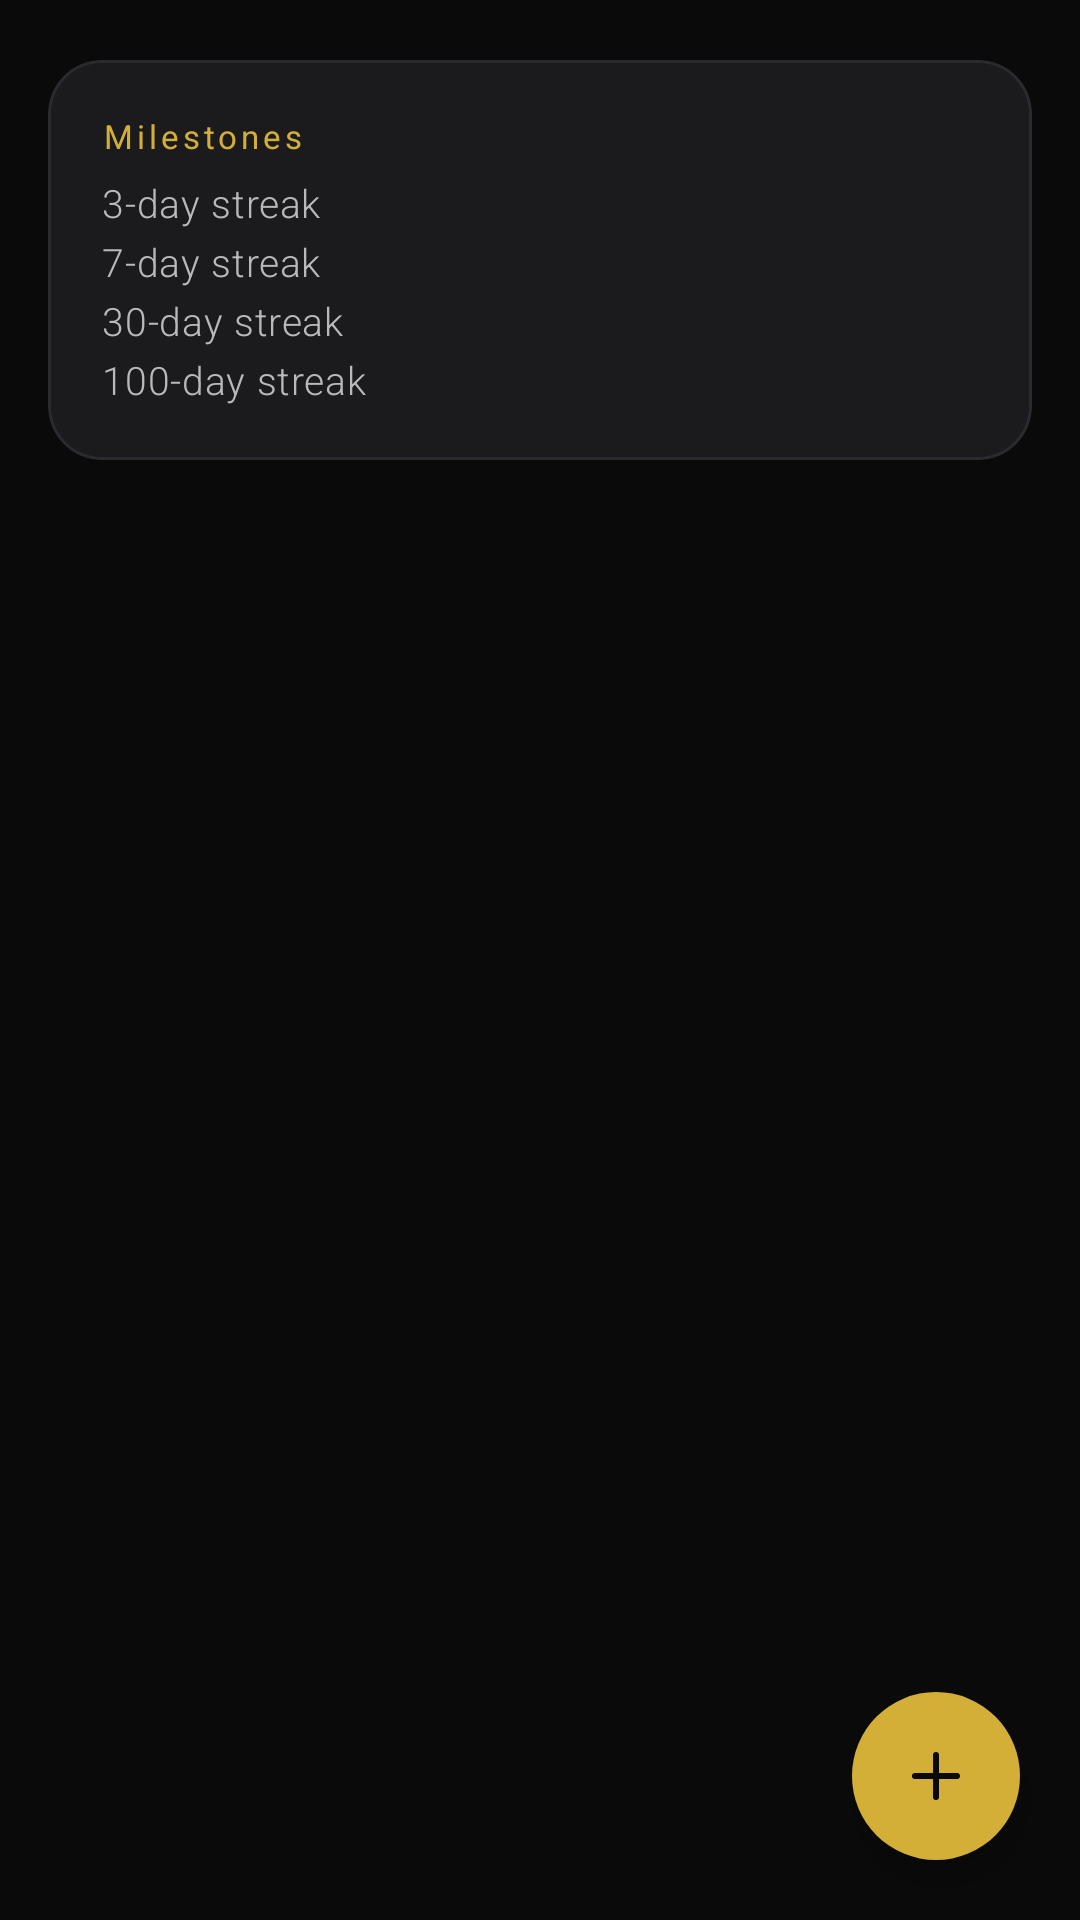

Where to tap for icons on this 1080x1920 app screen, as point (x, y):
New goal: point (936, 1776)
